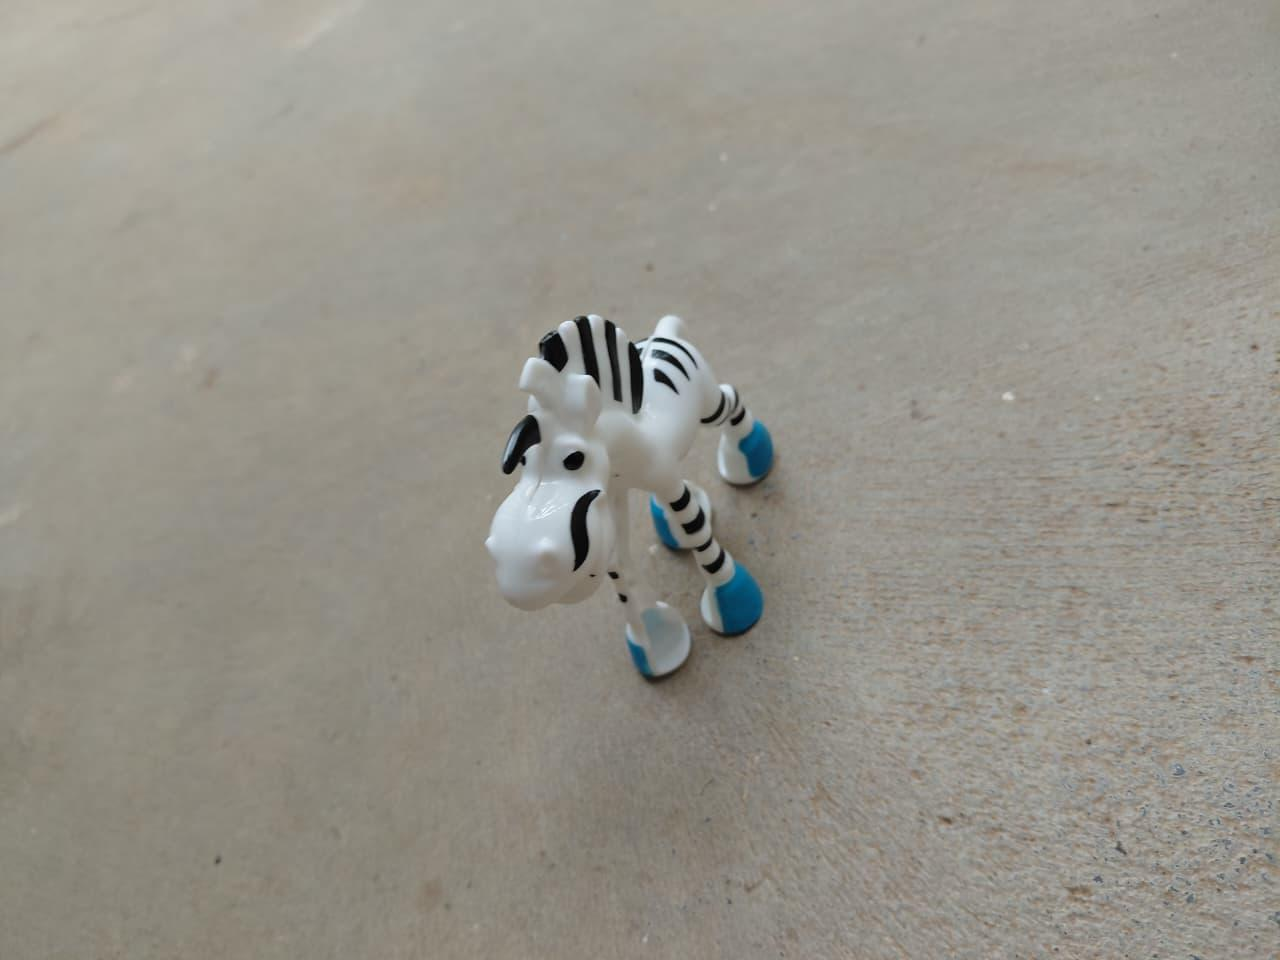zebra: (466, 292, 782, 691)
